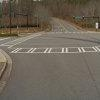Crosswalk: (13, 39, 100, 56)
